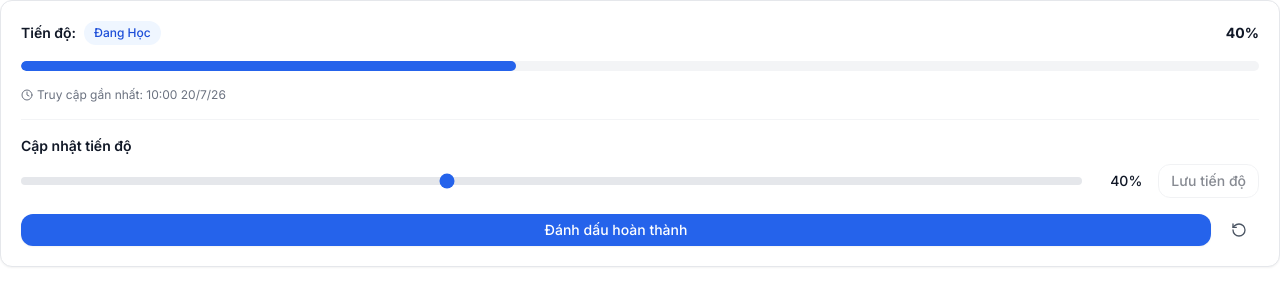
LearningProgressControls › Complete action › shows success toast and updates draft on success
Click the button "Đánh dấu hoàn thành": (616, 230) x1=21 y1=214 x2=1211 y2=246
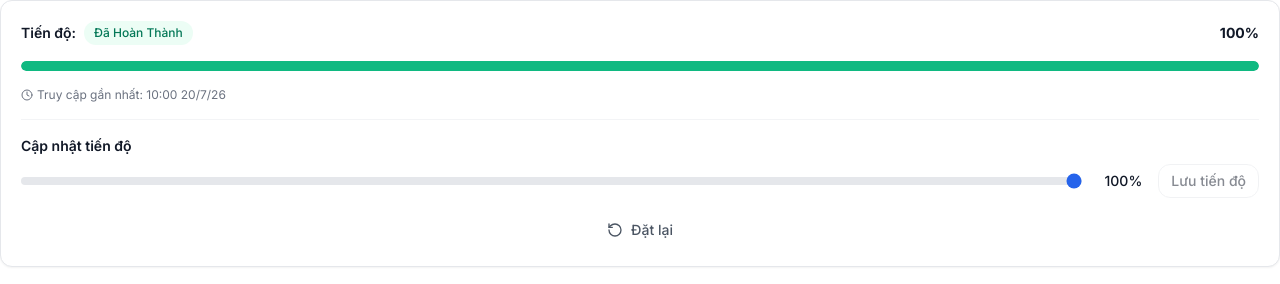
Check: the slider holds "100", box x1=21 y1=177 x2=1082 y2=185
